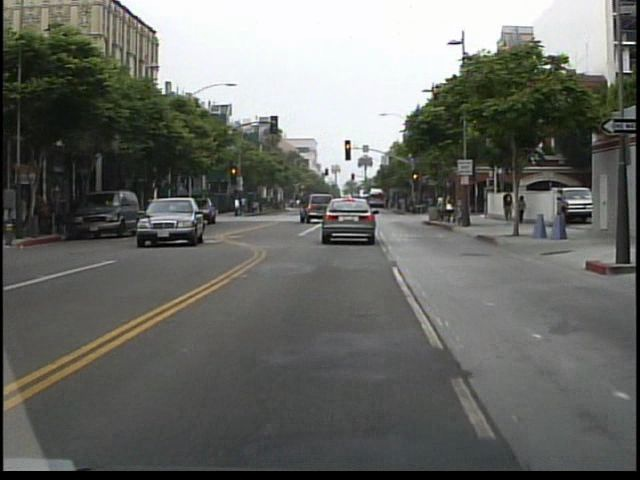person: (434, 189, 453, 224), (501, 186, 516, 226), (518, 189, 531, 226), (234, 193, 243, 219)
